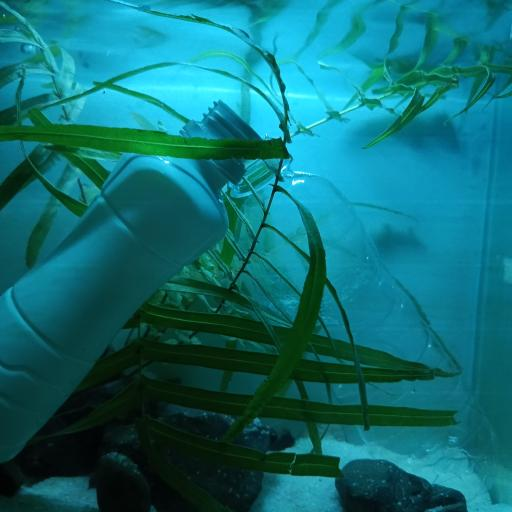plastic_bottle: (230, 149, 501, 504), (0, 100, 264, 463)
